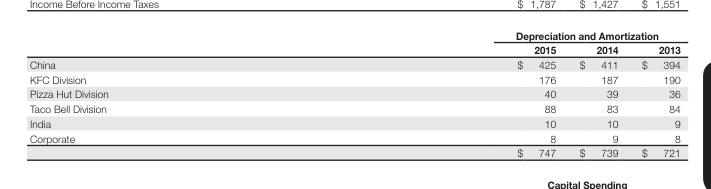table: (29, 28, 679, 158)
table column: (29, 28, 311, 158), (311, 28, 567, 158), (567, 28, 629, 158), (629, 28, 679, 158)
table column header: (29, 28, 679, 56)
table row: (29, 56, 679, 71), (29, 71, 679, 86), (29, 100, 679, 115), (29, 115, 679, 130), (29, 130, 679, 145), (29, 28, 679, 42), (29, 42, 679, 56), (29, 86, 679, 100), (29, 145, 679, 158)
table spanning cell: (311, 28, 679, 42)
